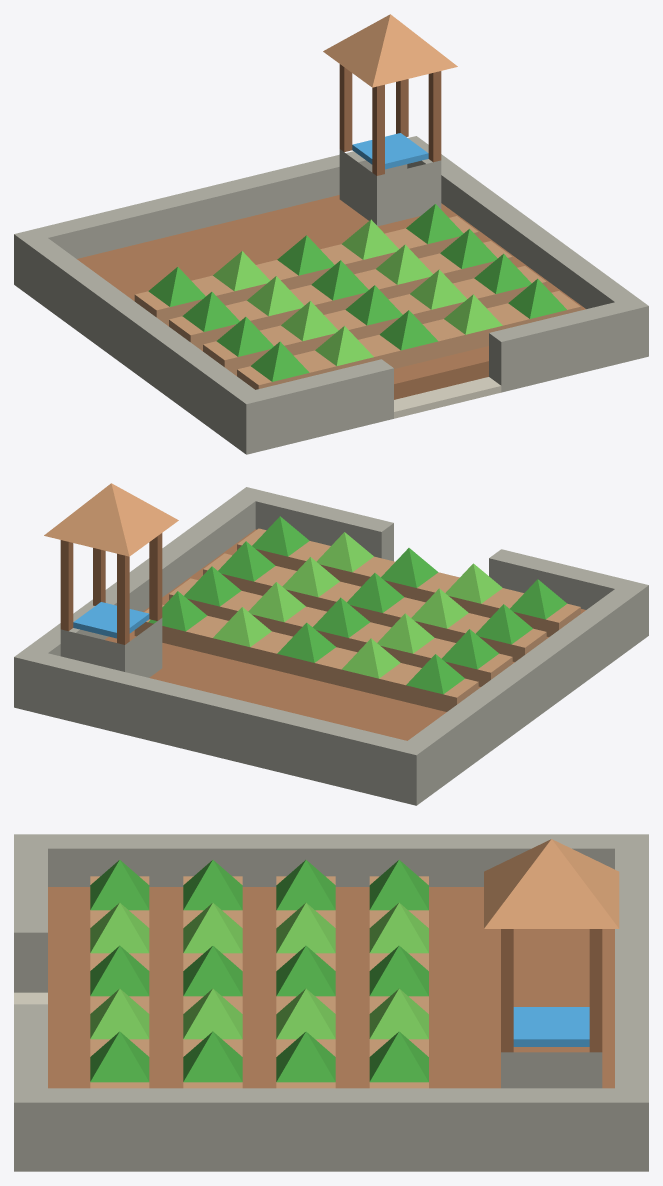
Rendered from field_t3_v2.glb.
3 views of the same model, one above another, from view 1: azimuth 30°, elevation 25°; view 2: azimuth 150°, elevation 25°; view 3: azimuth 270°, elevation 25° (orthographic). The views are drawn at different scales.
Visible parts, largest first — view 1: field_t3_v2; view 2: field_t3_v2; view 3: field_t3_v2.
Part boxes in pixels (x1,y1,x2,y2): field_t3_v2: [14, 14, 648, 454]; field_t3_v2: [14, 483, 648, 805]; field_t3_v2: [14, 834, 648, 1171].
Bounding box in the file's own units: 0.75 × 0.38 × 0.75.
1 material, 1 textured.
